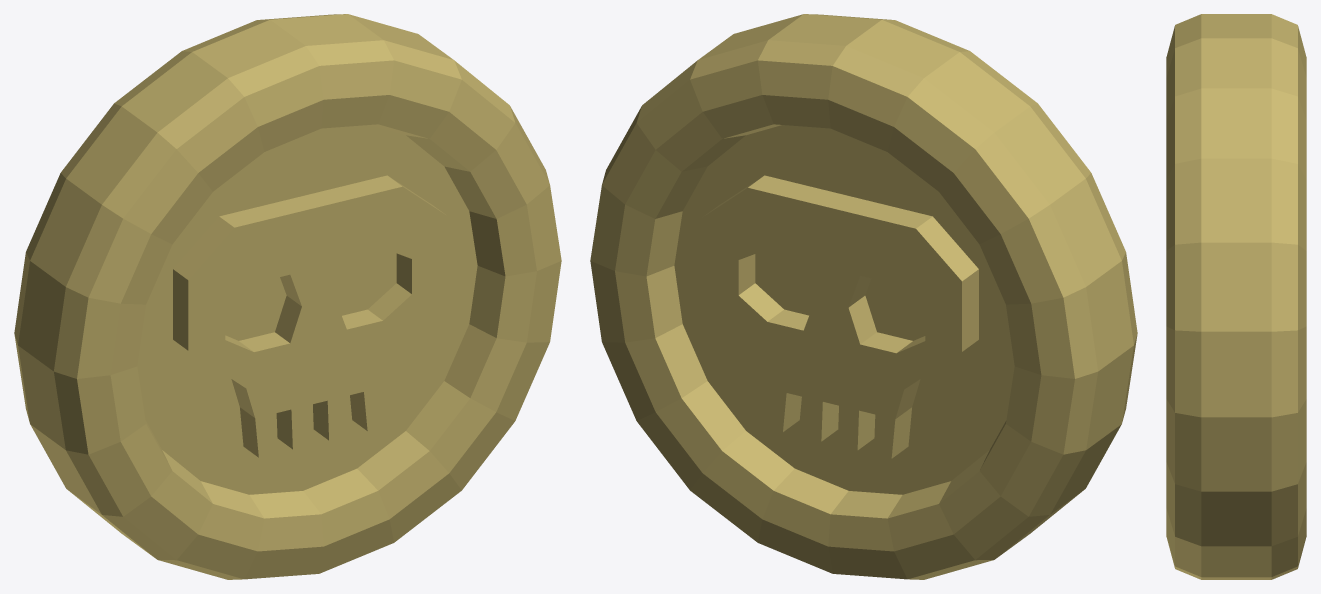
The model's file is SM_Coin_Skull.fbx.
3 views of the same model, side by side, from view 1: azimuth 30°, elevation 25°; view 2: azimuth 150°, elevation 25°; view 3: azimuth 270°, elevation 25° (orthographic). The views are drawn at different scales.
Visible parts, largest first — view 1: SM_Coin_Skull; view 2: SM_Coin_Skull; view 3: SM_Coin_Skull.
Part boxes in pixels (<box>): SM_Coin_Skull: <box>14,14,561,579</box>; SM_Coin_Skull: <box>590,14,1137,579</box>; SM_Coin_Skull: <box>1166,14,1306,579</box>.
Size of the model in its own units: 73.67 by 73.77 by 18.12.
